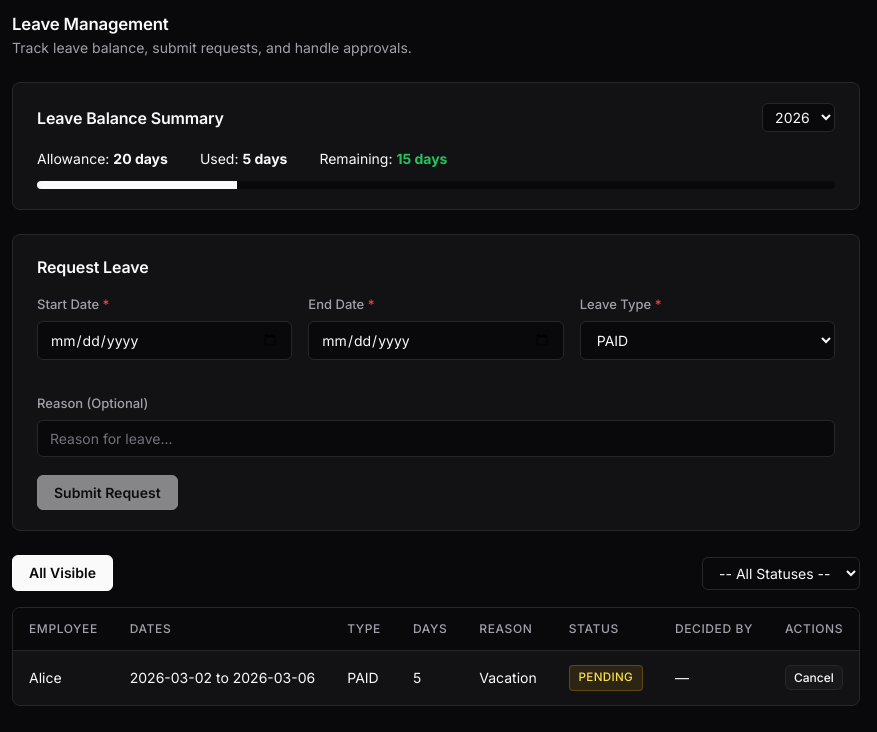
Scenario: Leave Page Component › displays toast error message on 409 overlap error response from API
expect the text "Alice" is shown: met, box [13,650,114,705]
Type "2026-03-02" into the date field labelled "Start Date *". click: (165, 340)
box: [37,321,292,360]
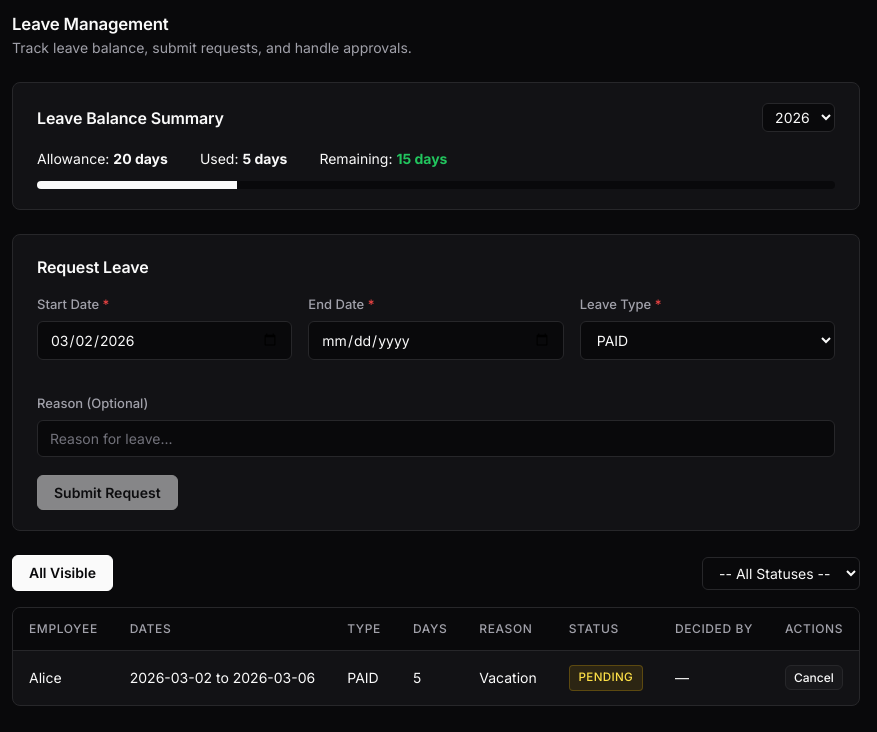
Type "2026-03-06" into the date field labelled "End Date *". click: (436, 340)
box: [308,321,564,360]
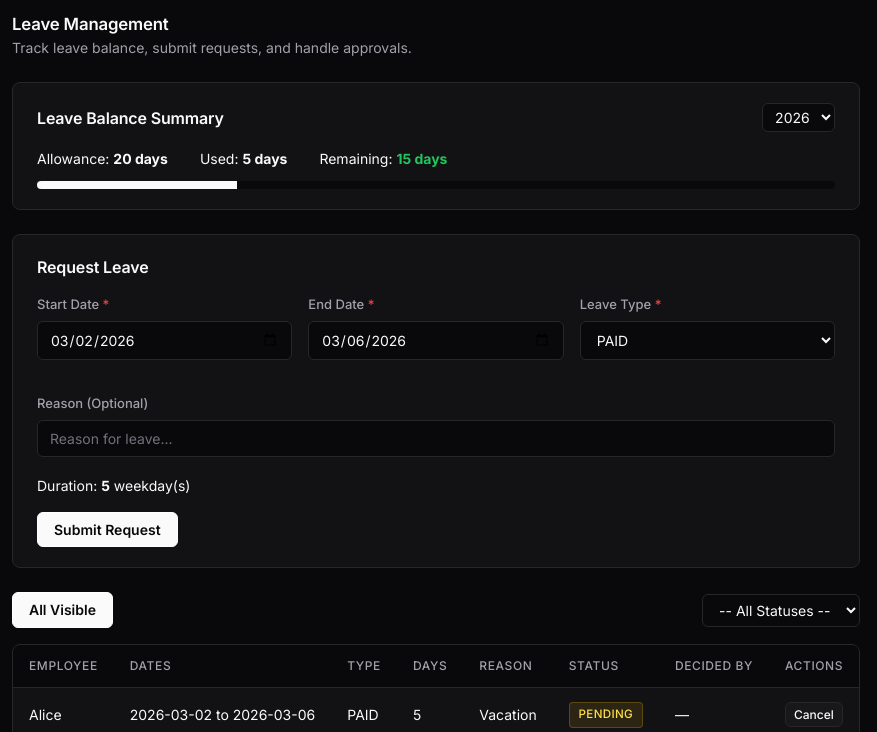
Click the button with test id "submit-leave-request-btn". click: (107, 530)
box: [37,512,178,547]
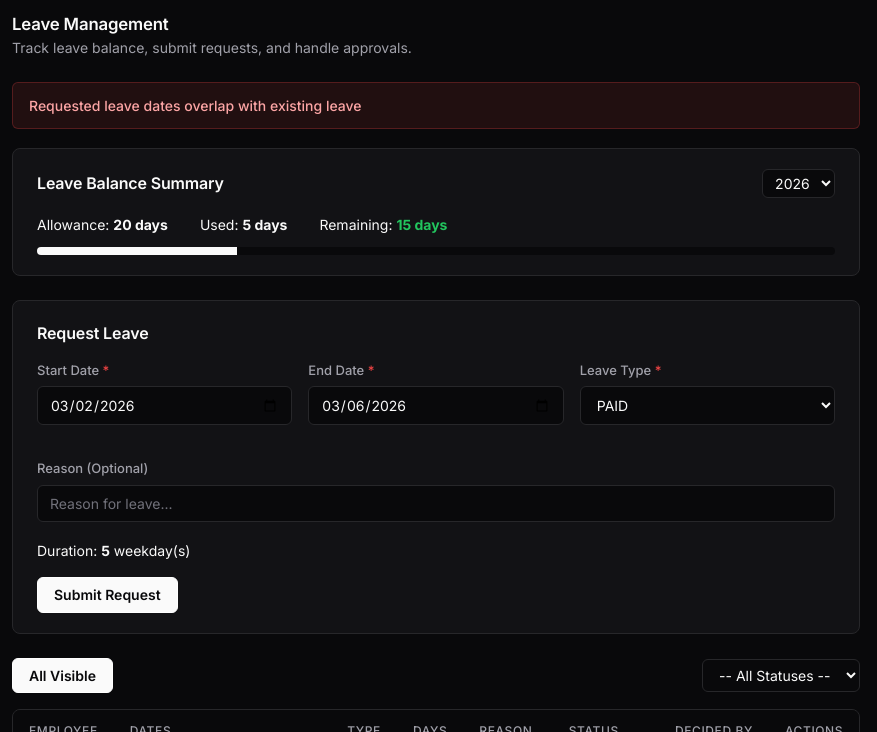
expect the text with test id "toast-error" reads "Requested leave dates overlap with existing leave": met, box [29,97,362,114]
